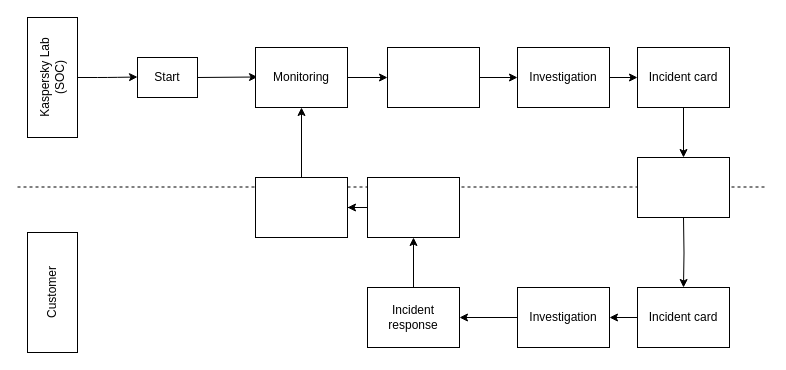
Image size: 786x370. Some labels were removed from this diagram. The centre of each missing label's shape, as x and y in pixels:
"Back action by mail" goes at point (413, 207).
"Detection of suspicious activity" goes at point (433, 77).
"Remedial measures (if it necessary)" goes at point (301, 207).
"Reporting by mail" goes at point (683, 187).
